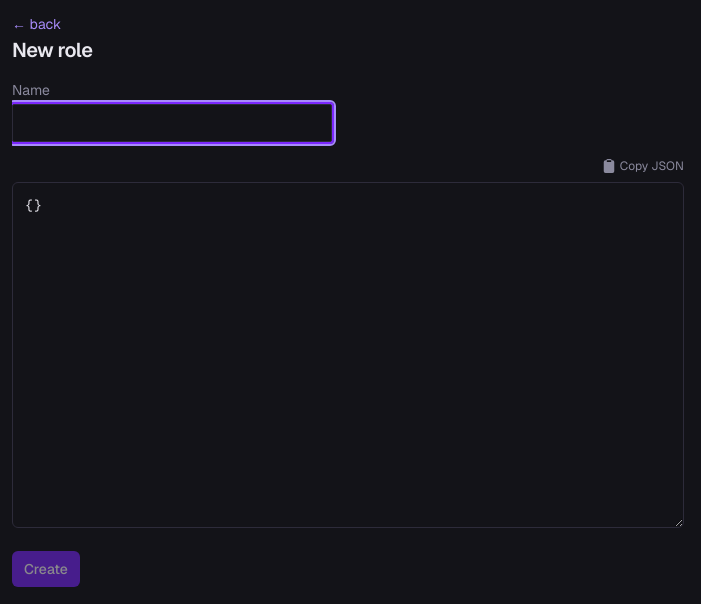
Test: accepts a valid name and enables Create
In the field labelled "Name": coordinates (172, 123) [12,104,332,142], type "web-server"
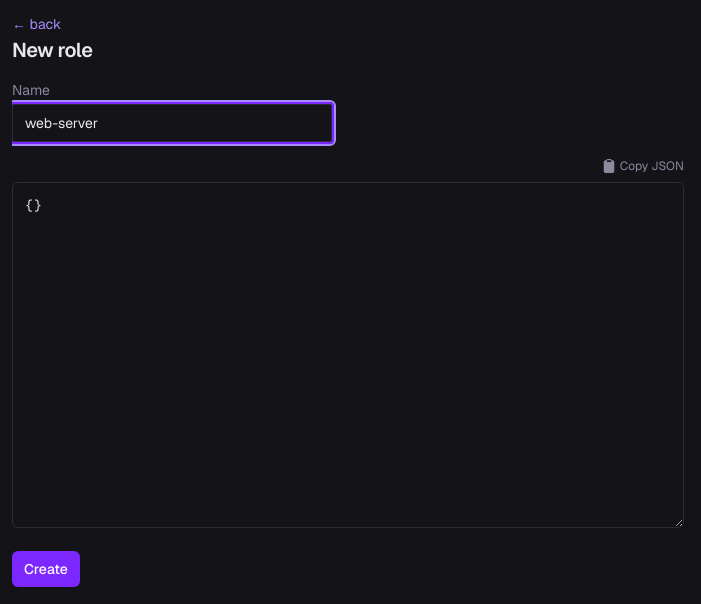
Result: the button "Create" is enabled at [12,551,80,587]
